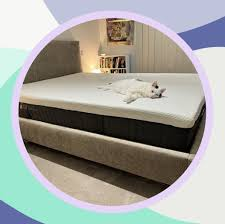bed-matress: (16, 71, 209, 154)
